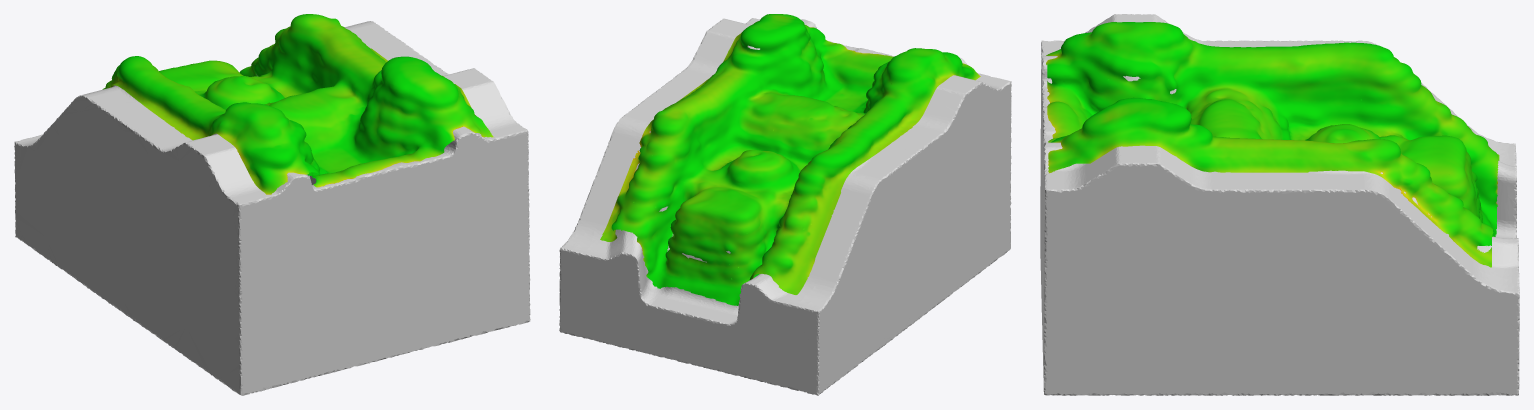
The model's file is draco_prefix_meshattr.glb.
3 views of the same model, side by side, from view 1: azimuth 30°, elevation 25°; view 2: azimuth 150°, elevation 25°; view 3: azimuth 270°, elevation 25° (orthographic). The views are drawn at different scales.
Visible parts, largest first — view 1: target_mesh, result_mesh; view 2: target_mesh, result_mesh; view 3: target_mesh, result_mesh.
Boxes of the visible parts, x1,y1,x2,y2 form: target_mesh: (14, 21, 530, 395); result_mesh: (102, 14, 493, 194); target_mesh: (559, 18, 1011, 395); result_mesh: (600, 14, 980, 305); target_mesh: (1040, 14, 1519, 395); result_mesh: (1046, 22, 1499, 267).
Size of the model in its own units: 223 by 173 by 293.
